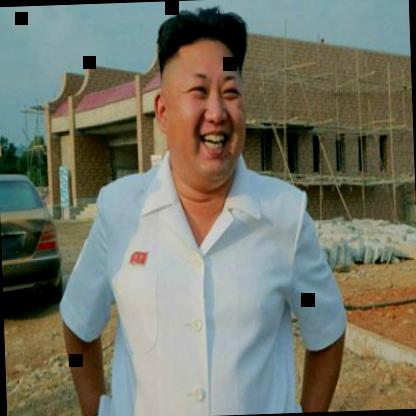head: (146, 2, 258, 187)
